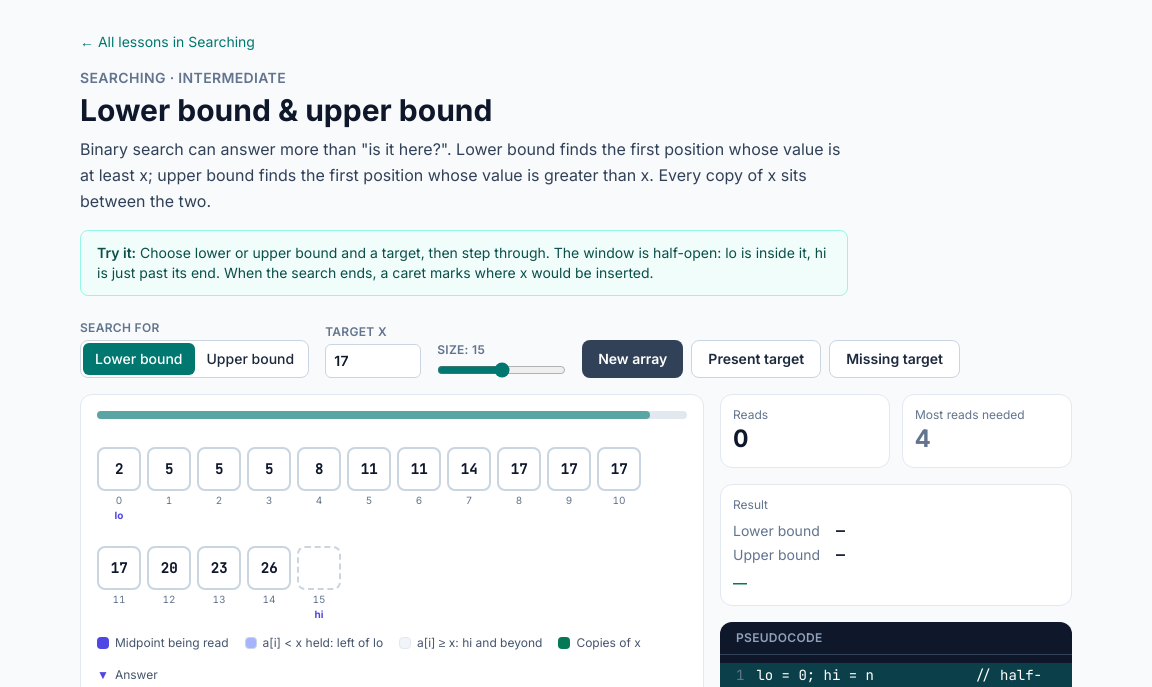
Test: lower and upper bound lesson › switching to upper bound changes the test and the answer, not the count
The image size is (1152, 687).
Click the radio button labelled "Upper bound".
click(250, 358)  # box [206,350,294,367]
(page scrolled)
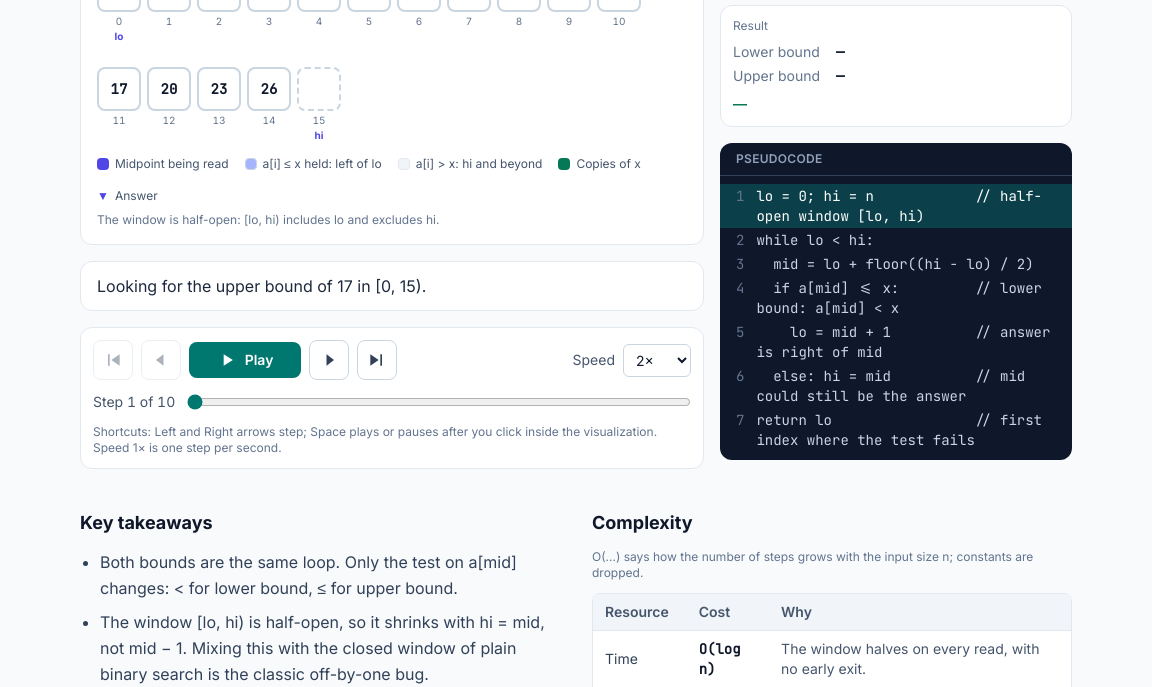
Expected: the text "if a[mid] <= x:" is shown, [756,279,1050,317]
Click the button named "Last step".
click(377, 360)  # box [357,340,397,380]
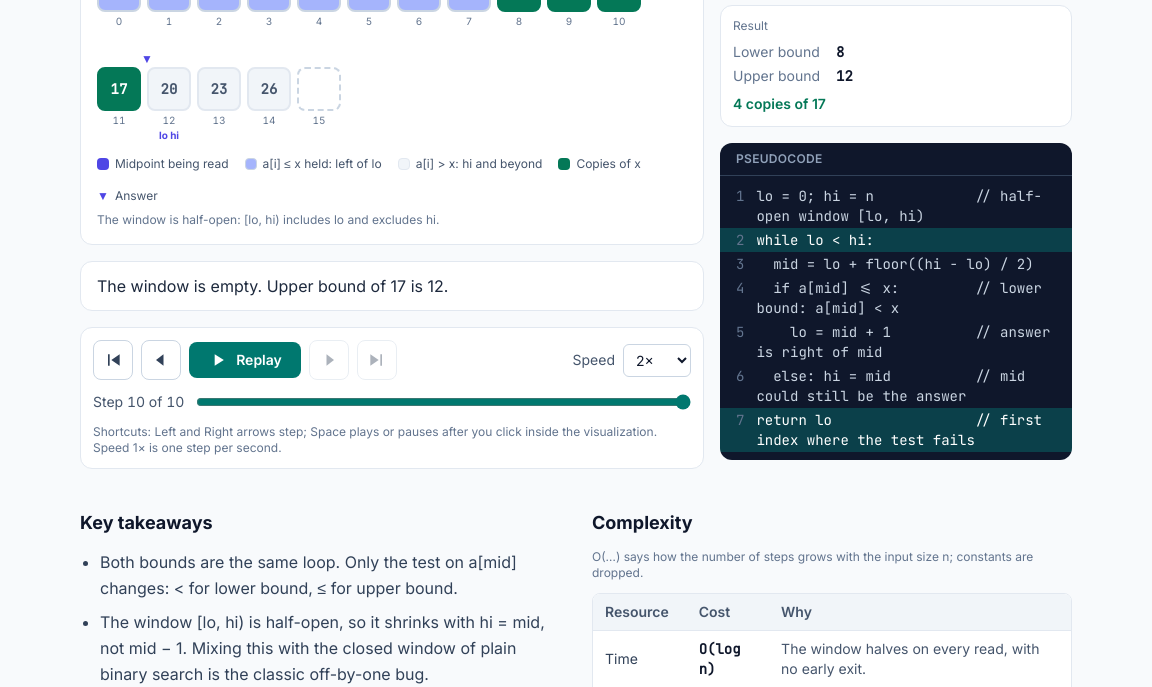
Expected: the text "Upper bound of 17 is 12." is shown, [97,276,448,296]
Expected: the text "4 copies of 17" is shown, [733,95,826,112]
